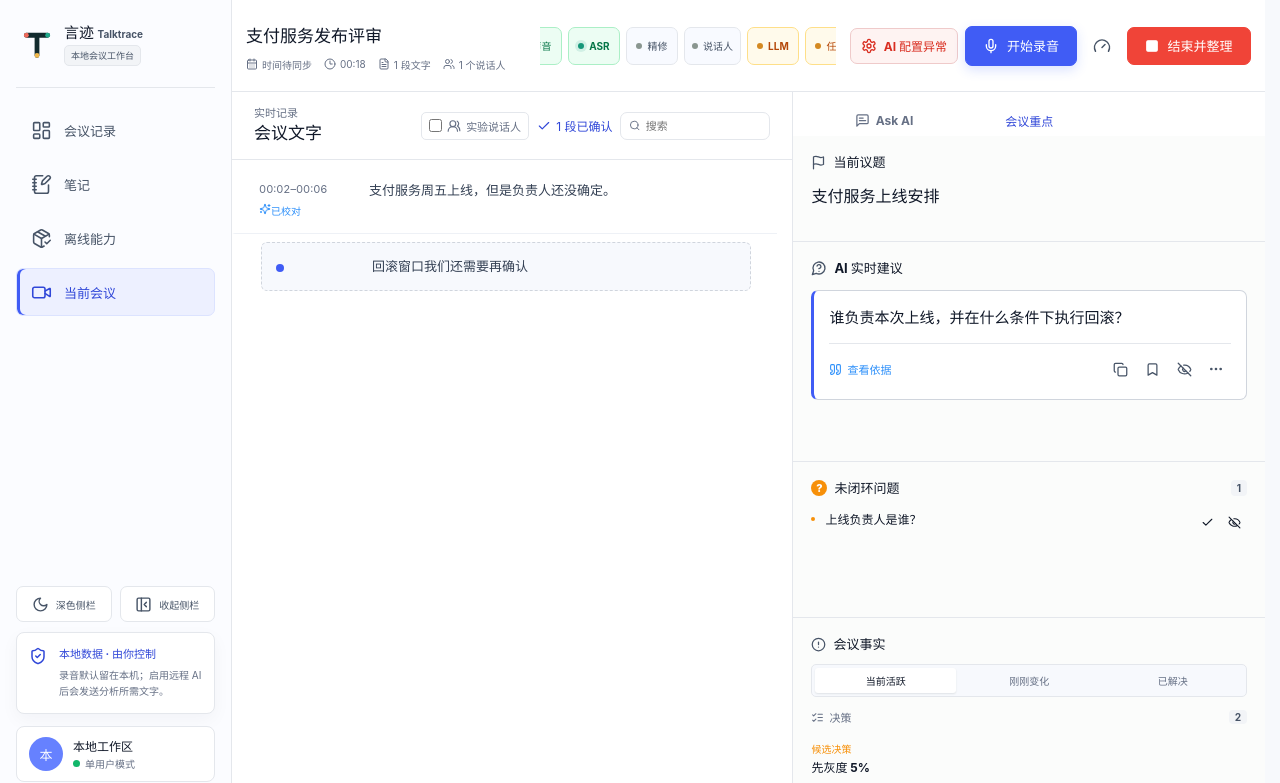
Test: LiveMeetingWorkbench › loads, renames, and refreshes a stable speaker through the shared live transcript
Step 1. Click the checkbox labelled "实验说话人" → (436, 126), box left=429, top=119, right=442, bottom=132
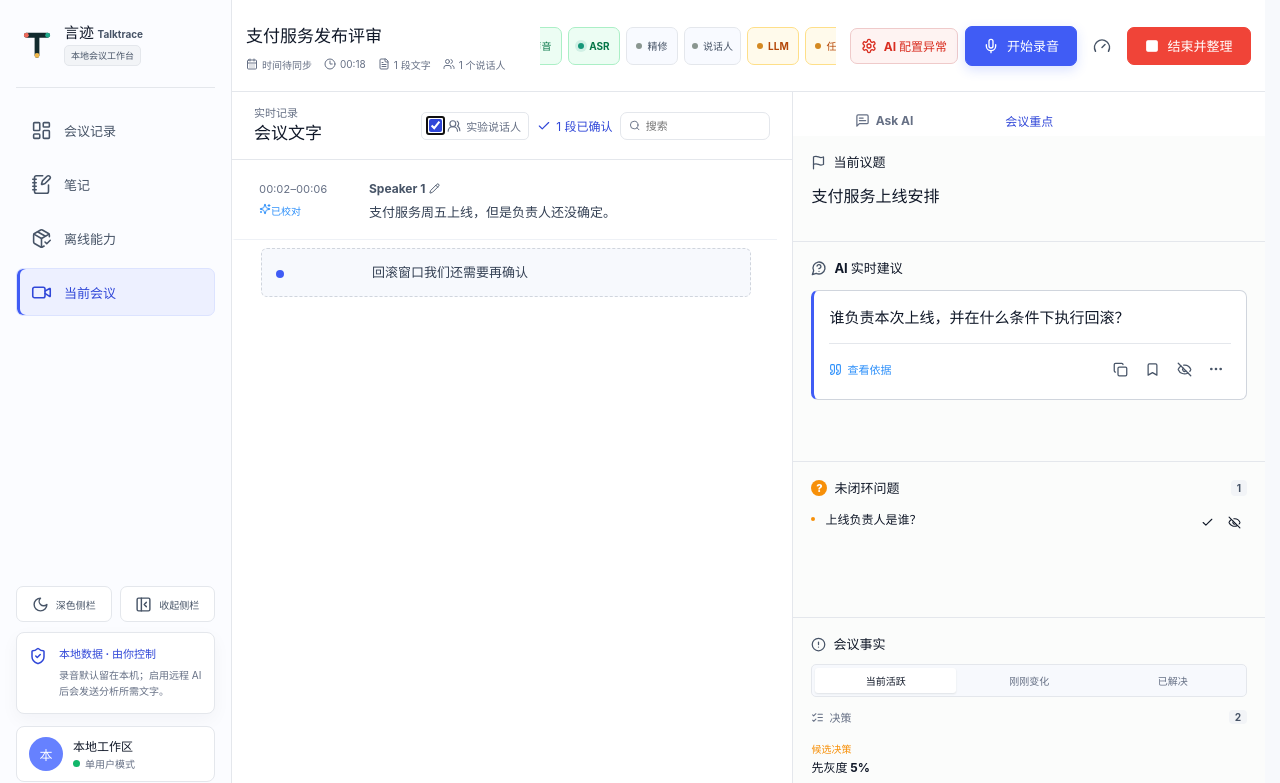
Step 2. Click the button "Speaker 1" → (405, 188), box left=369, top=180, right=440, bottom=197
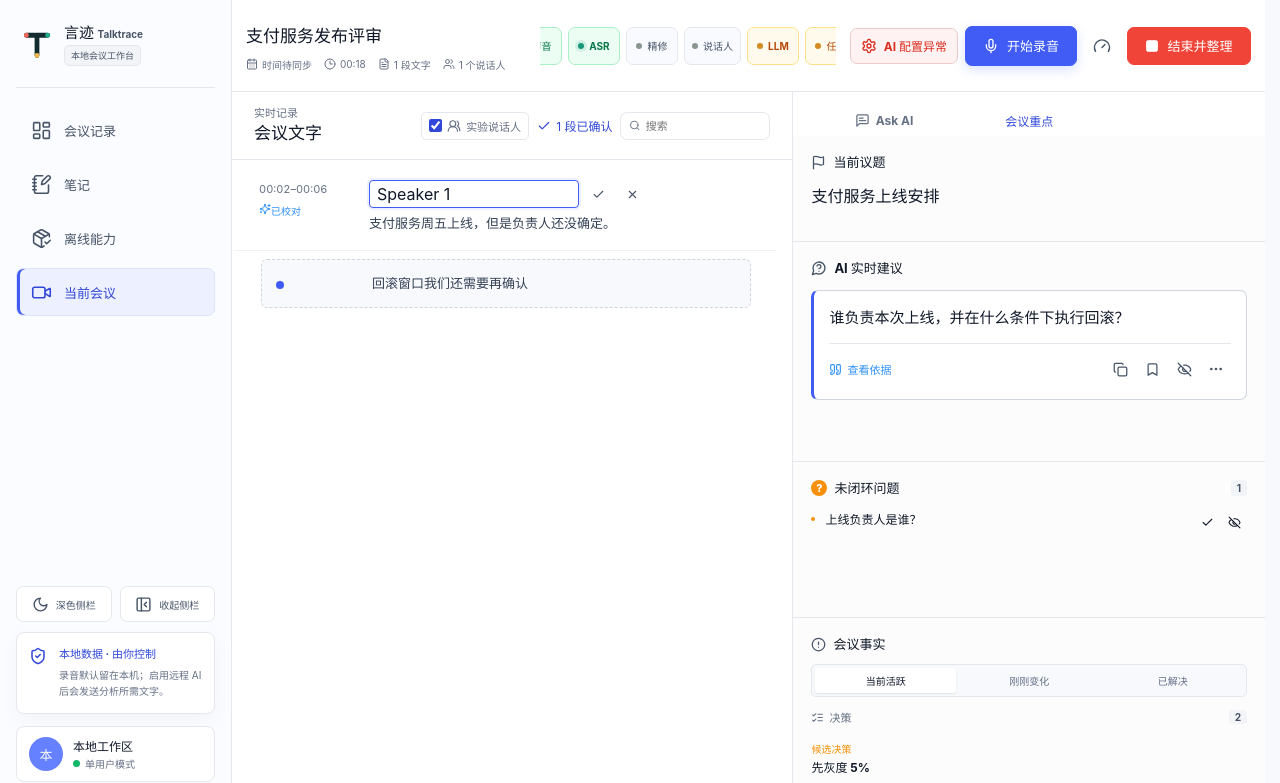
Step 3. Replace the text in the field named "重命名 Speaker 1" with "张工" → (474, 194), box left=369, top=180, right=579, bottom=208
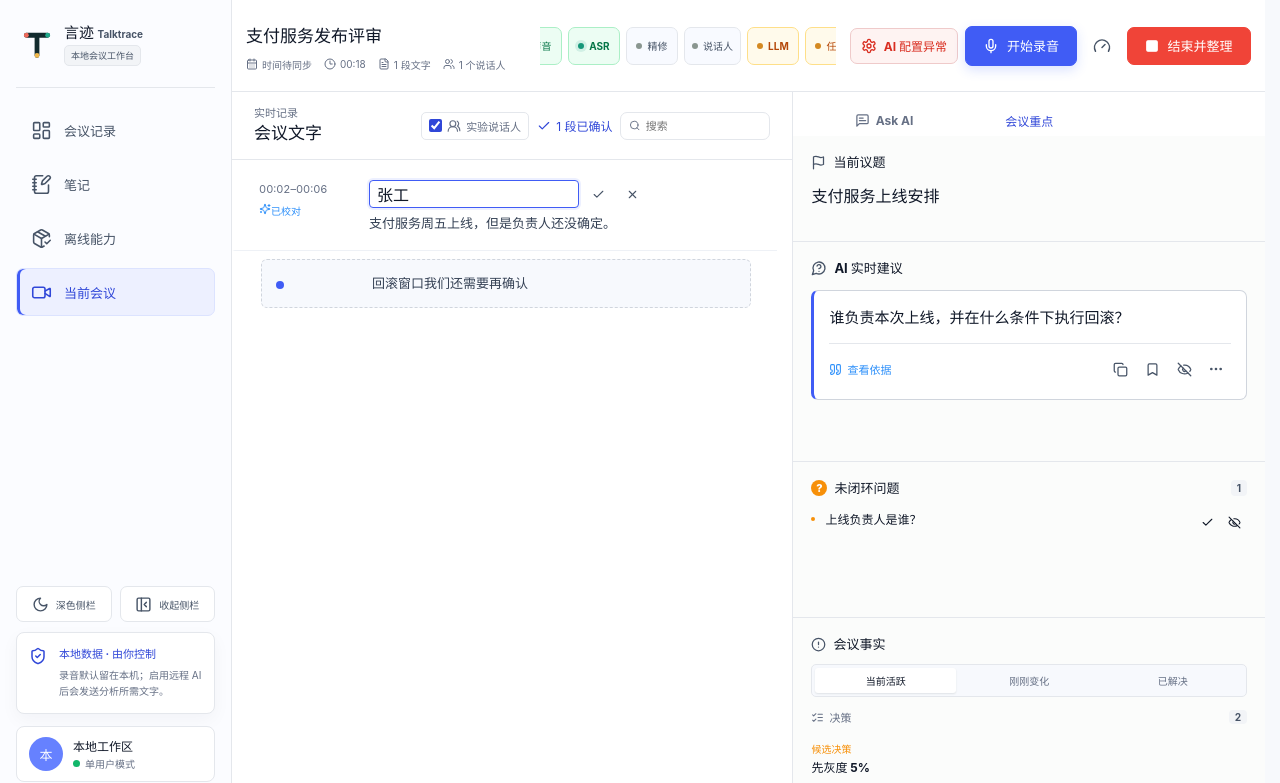
Step 4. Click the button named "保存 Speaker 1 的名称" → (598, 194), box left=583, top=179, right=613, bottom=209
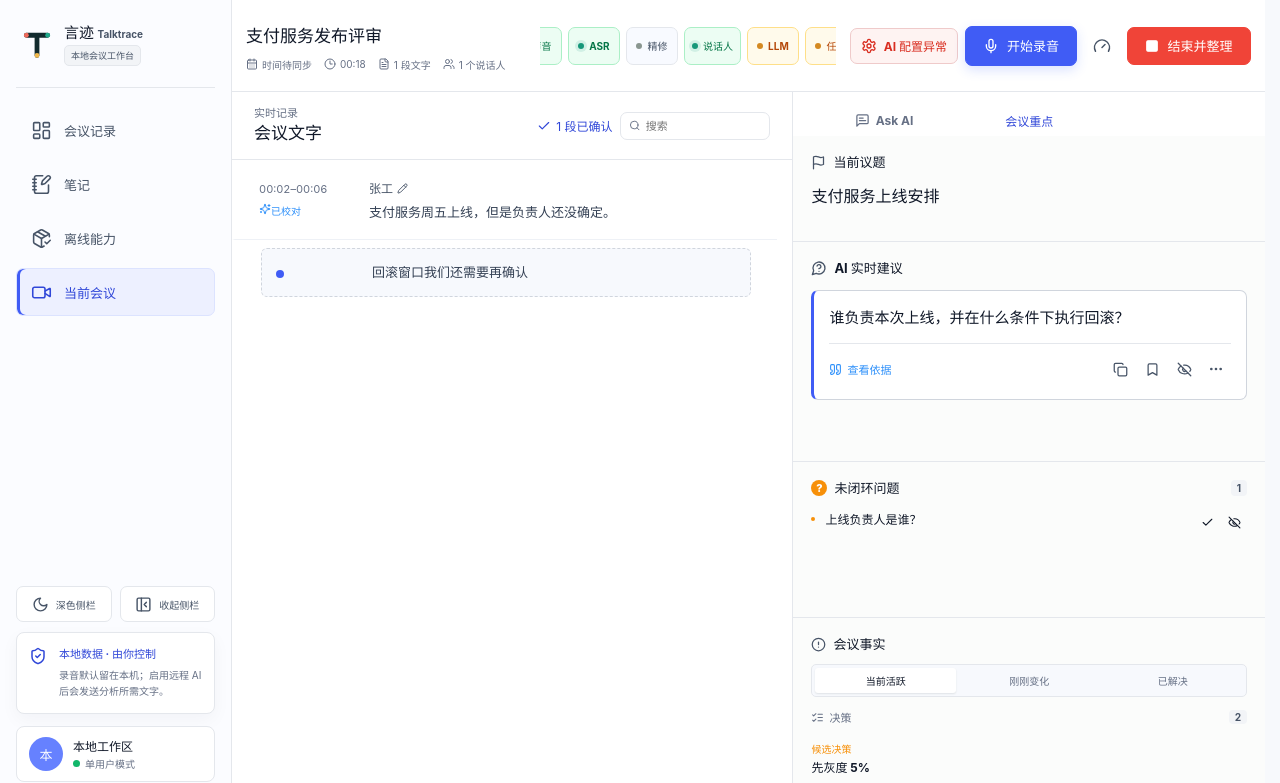
Expected: the button "张工" is shown, left=369, top=180, right=408, bottom=197
